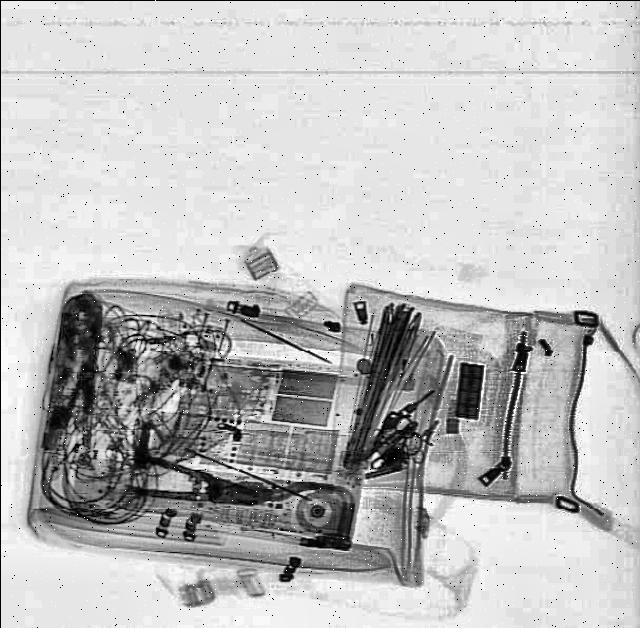Pliers: (39, 288, 111, 454), (125, 448, 265, 518)
